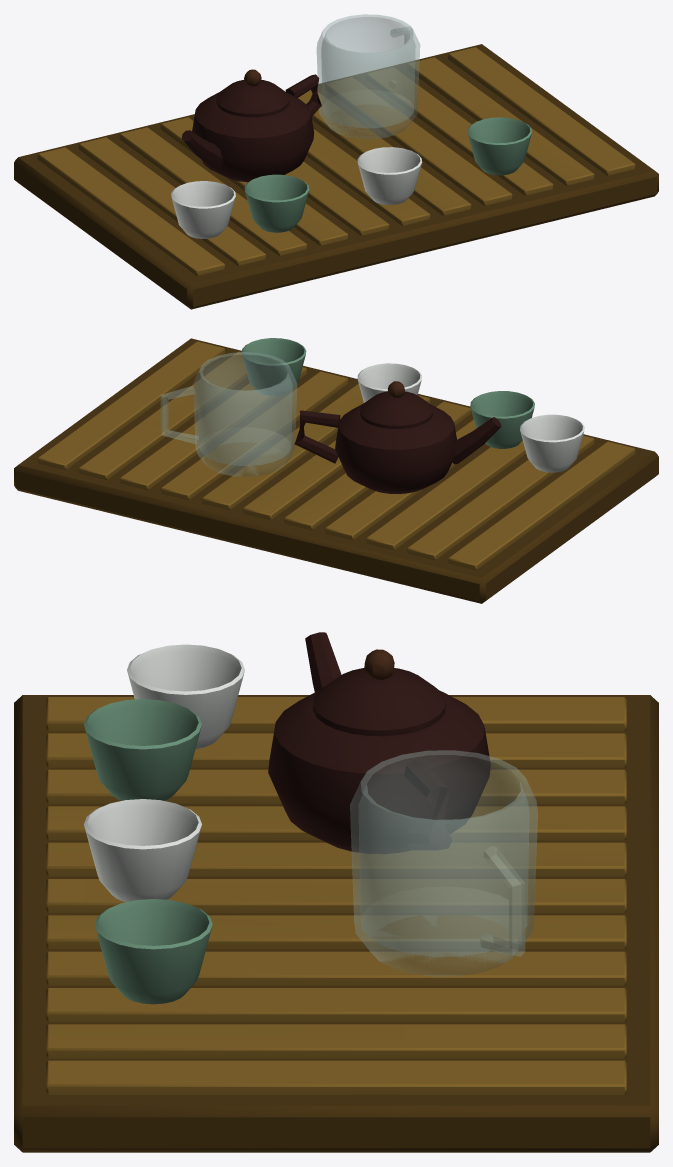
File: tea-service-gongfu.glb
3 renders of one model, top to bottom at view 1: azimuth 30°, elevation 25°; view 2: azimuth 150°, elevation 25°; view 3: azimuth 270°, elevation 25°, orthographic. The views are drawn at different scales.
Parts seen in each view (by area): view 1: tray__bamboo, cups__ceramic, pitcher__glass, pot__enamel; view 2: tray__bamboo, pitcher__glass, pot__enamel, cups__ceramic; view 3: tray__bamboo, pitcher__glass, cups__ceramic, pot__enamel.
Boxes of the visible parts, x1=… form: tray__bamboo: x1=14, y1=44, x2=658, y2=309; cups__ceramic: x1=171, y1=117, x2=531, y2=238; pitcher__glass: x1=316, y1=14, x2=420, y2=138; pot__enamel: x1=181, y1=69, x2=321, y2=182; tray__bamboo: x1=14, y1=338, x2=658, y2=603; pitcher__glass: x1=160, y1=352, x2=297, y2=476; pot__enamel: x1=294, y1=381, x2=501, y2=493; cups__ceramic: x1=241, y1=338, x2=584, y2=472; tray__bamboo: x1=14, y1=695, x2=658, y2=1152; pitcher__glass: x1=350, y1=750, x2=537, y2=976; cups__ceramic: x1=84, y1=644, x2=244, y2=1004; pot__enamel: x1=268, y1=632, x2=490, y2=853.
Bounding box in the file's own units: 0.46 × 0.1195 × 0.3.
